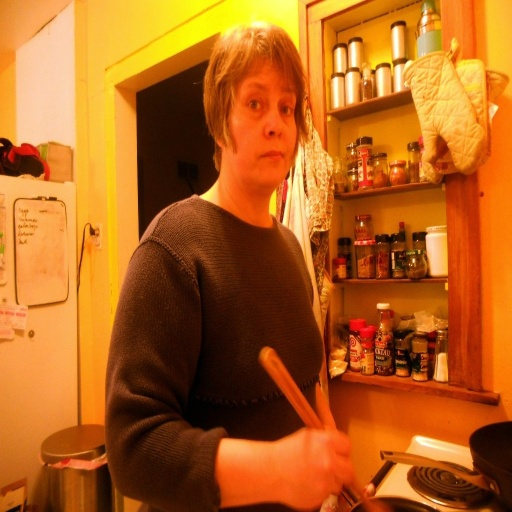hand: (212, 402, 366, 496)
